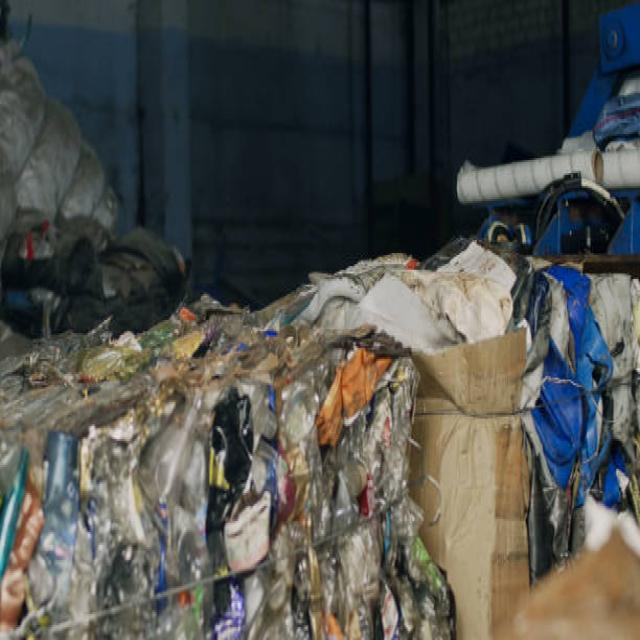plastic: (25, 340, 411, 570)
